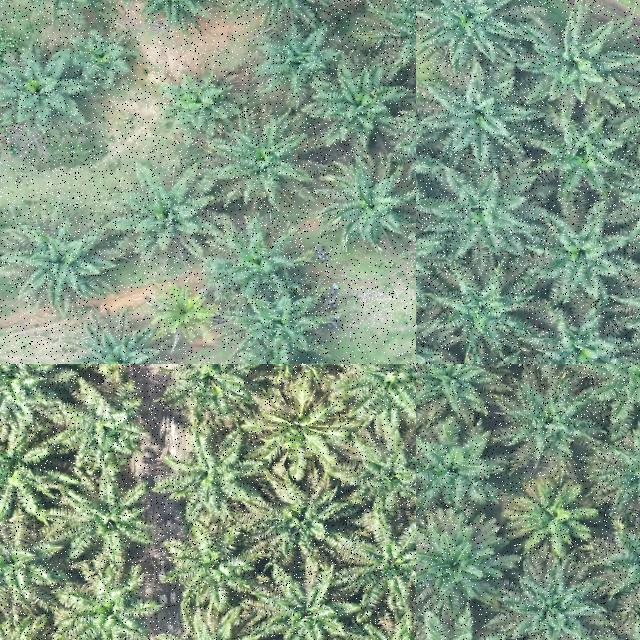Ganoderma: (266, 391, 329, 454), (150, 289, 212, 339)
